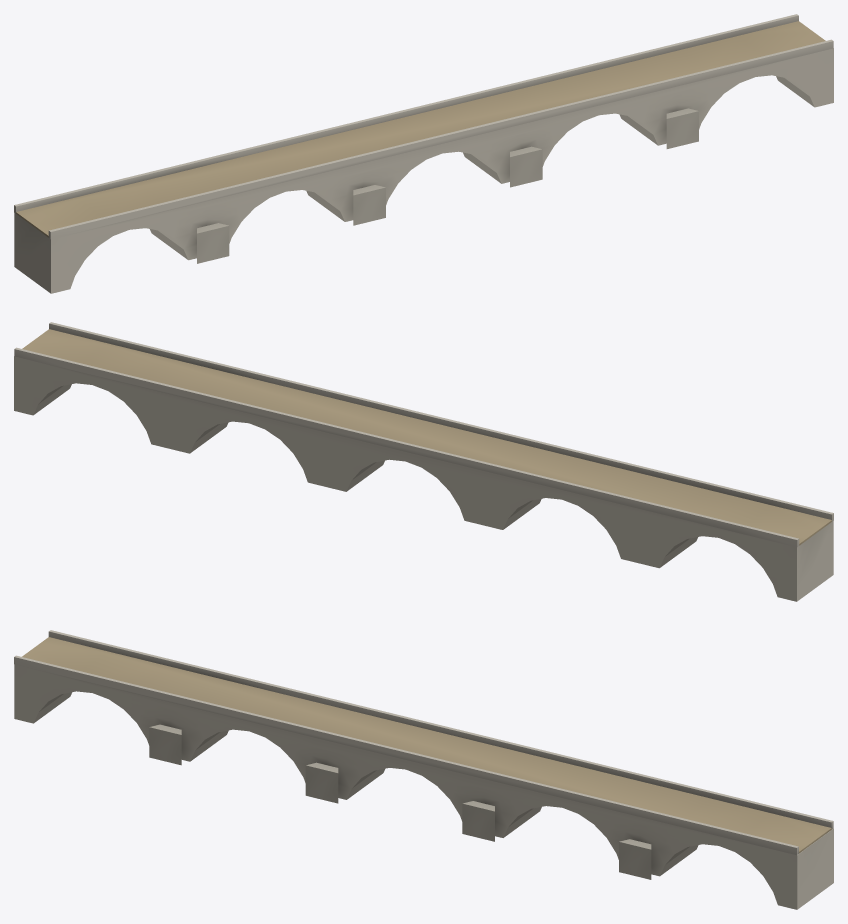
The model's file is pons-aelius.glb.
3 views of the same model, one above another, from view 1: azimuth 30°, elevation 25°; view 2: azimuth 150°, elevation 25°; view 3: azimuth 330°, elevation 25° (orthographic).
Parts seen in each view (by area): view 1: p1_deck, p0_arches; view 2: p1_deck, p0_arches; view 3: p1_deck, p0_arches.
Part boxes in pixels (x1,y1,x2,y2): p1_deck: [14, 14, 833, 239]; p0_arches: [14, 48, 833, 293]; p1_deck: [14, 322, 833, 547]; p0_arches: [14, 356, 833, 601]; p1_deck: [14, 630, 833, 855]; p0_arches: [14, 664, 833, 909].
Bounding box in the file's own units: 135 × 10.26 × 12.62.
